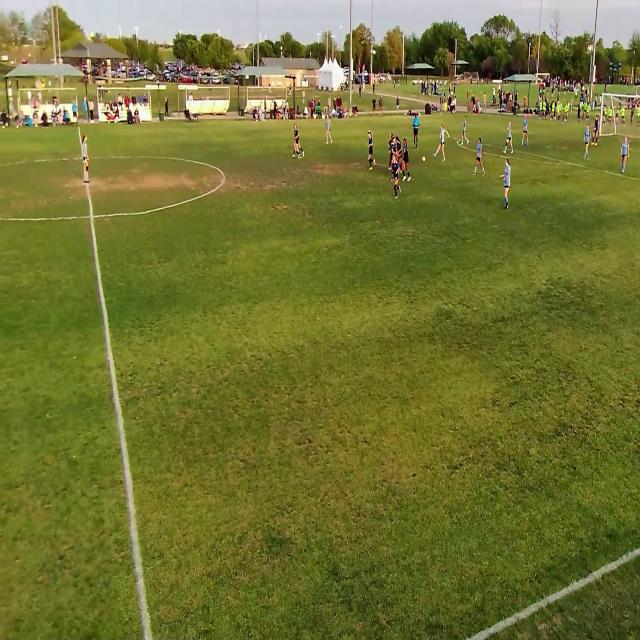ball: (422, 156, 426, 163)
team1: (402, 136, 413, 184), (392, 151, 402, 197), (368, 129, 377, 167), (294, 121, 303, 159), (395, 136, 402, 151), (392, 138, 396, 151)
team2: (503, 158, 513, 212), (82, 133, 92, 182), (475, 139, 487, 177), (436, 122, 447, 162), (621, 136, 630, 174), (506, 118, 515, 154), (462, 114, 471, 145), (583, 124, 591, 158), (521, 114, 529, 147), (326, 114, 333, 144)
